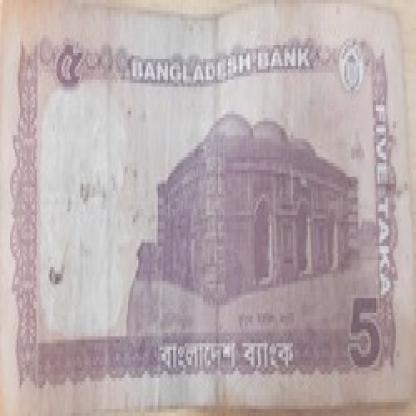Five Taka: (369, 100, 401, 302), (348, 291, 382, 382), (53, 38, 80, 101)
